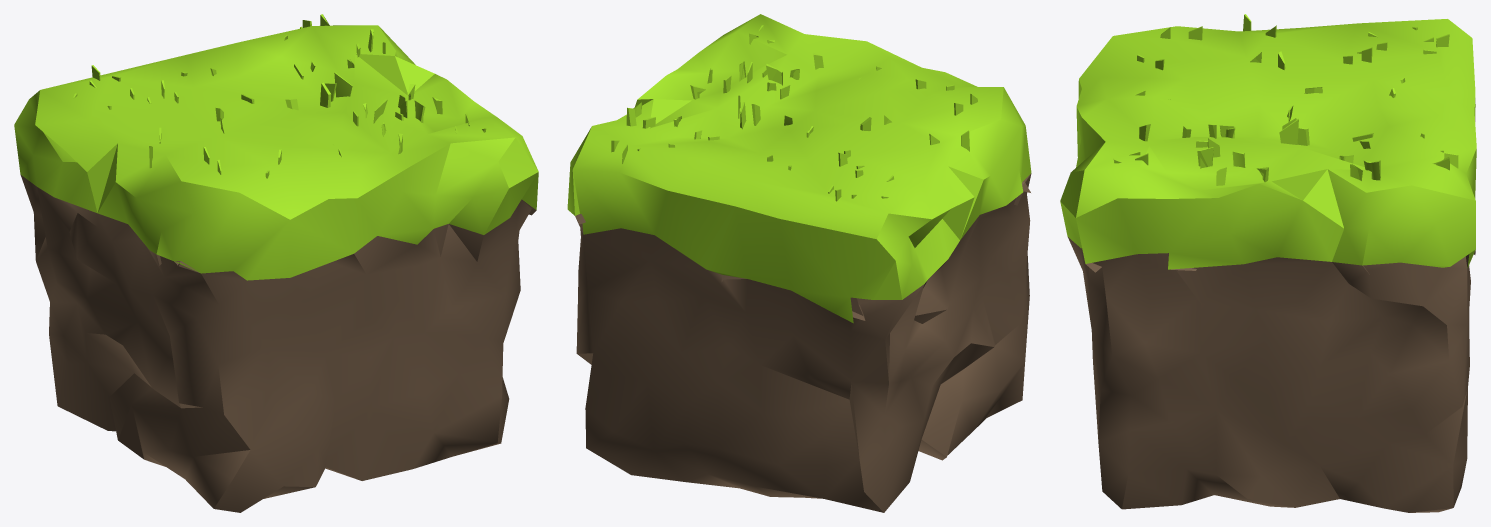
File: Island.gltf
3 views of the same model, side by side, from view 1: azimuth 30°, elevation 25°; view 2: azimuth 150°, elevation 25°; view 3: azimuth 270°, elevation 25° (orthographic). The views are drawn at different scales.
Visible parts, largest first — view 1: Tile_Rocky_01.059; view 2: Tile_Rocky_01.059; view 3: Tile_Rocky_01.059.
Part boxes in pixels (box(x1,y1,x2,y2)): Tile_Rocky_01.059: box(14, 14, 538, 512); Tile_Rocky_01.059: box(567, 14, 1031, 512); Tile_Rocky_01.059: box(1060, 14, 1476, 512).
Size of the model in its own units: 2.51 by 2.32 by 2.35.
